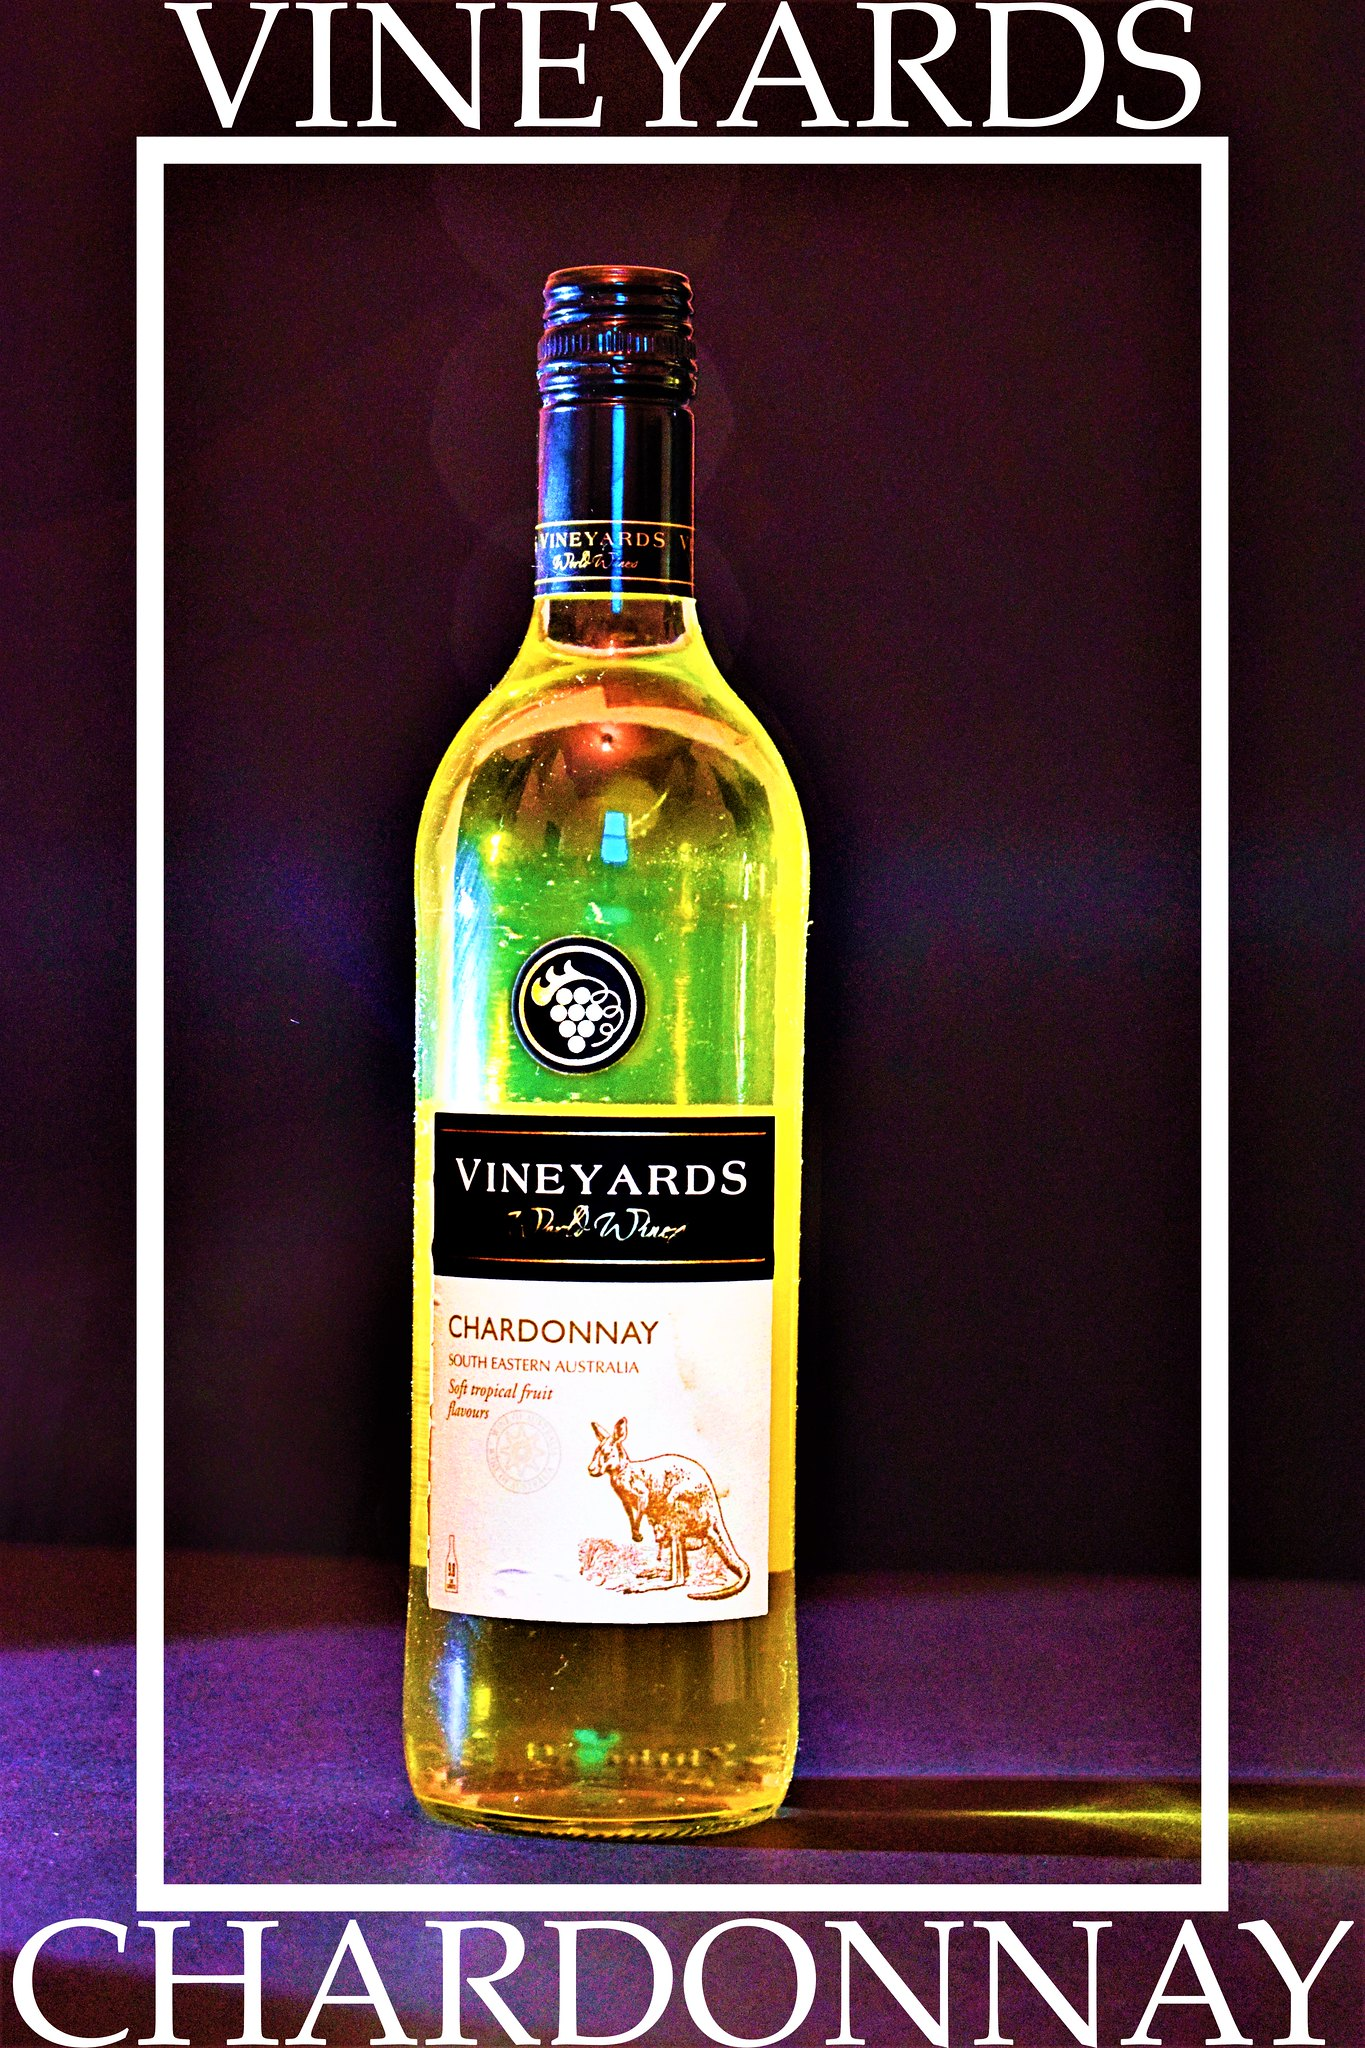bottle: (414, 256, 826, 1849)
